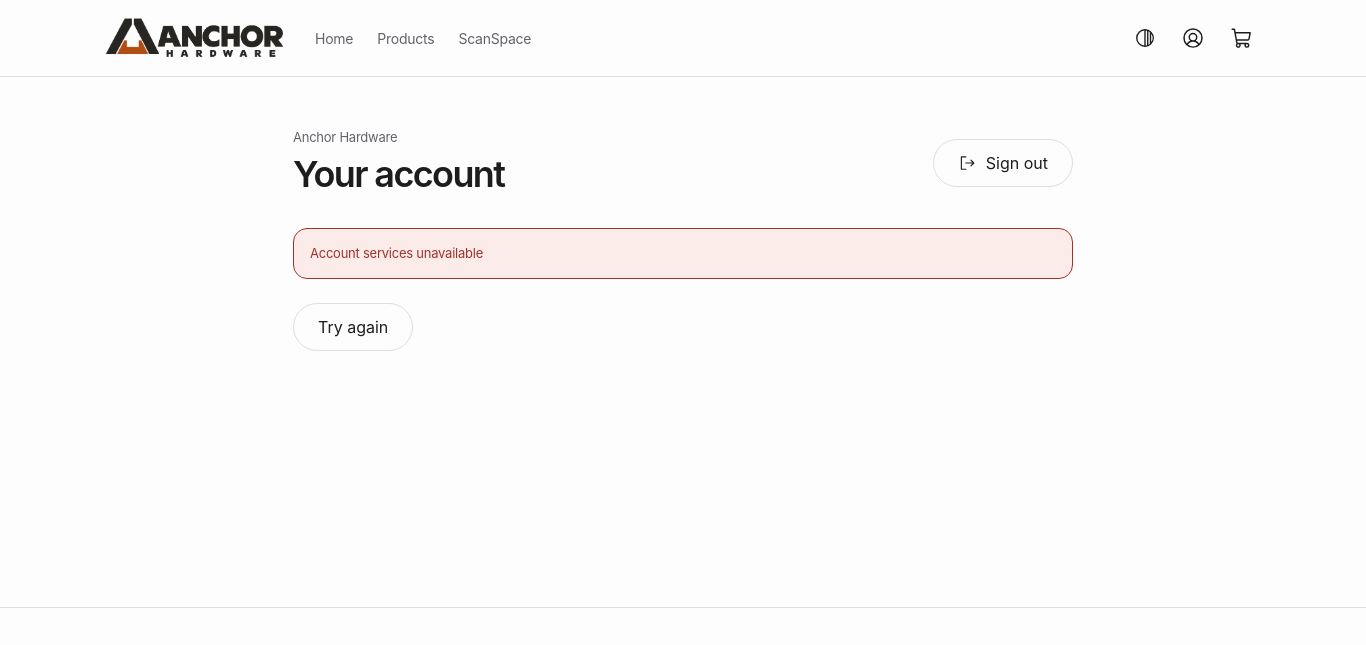
Test: a temporary profile failure preserves sign-in and can be retried
Check: the message reads "Account services unavailable", box top-left (310, 245), bottom-right (483, 261)
Click the button "Try again": point(353, 327) top-left (293, 303), bottom-right (413, 351)
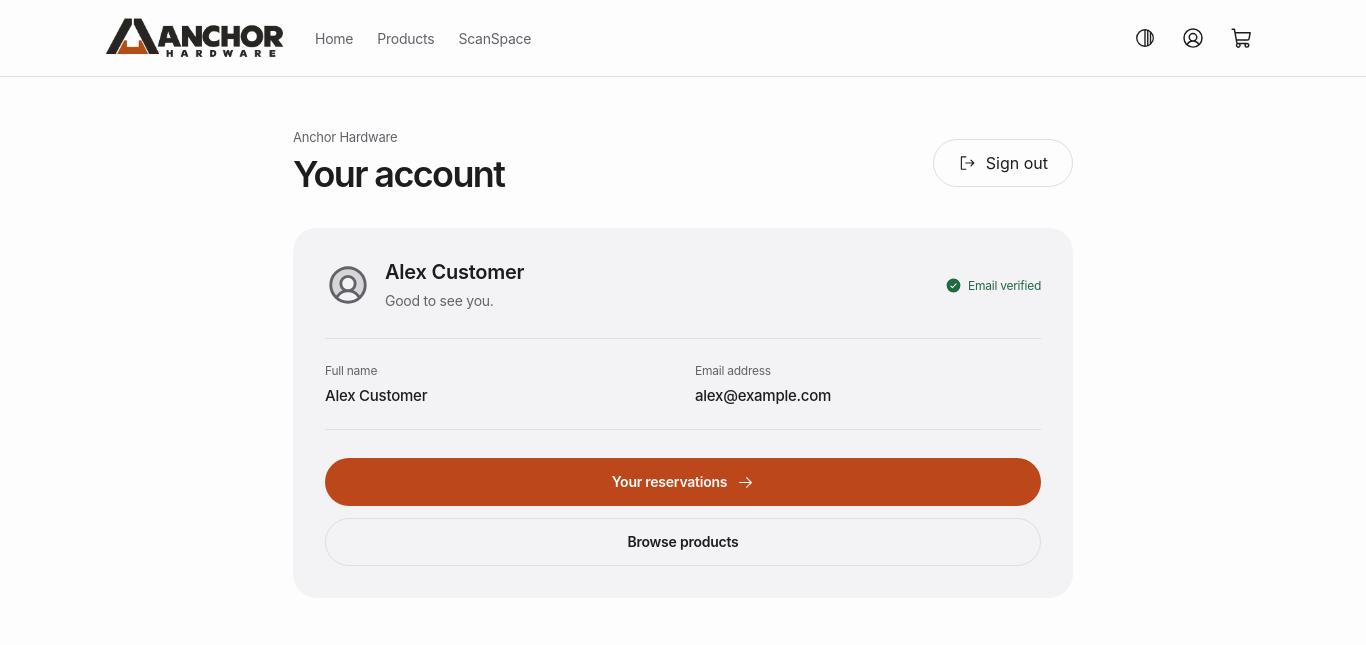
Check: the heading "Alex Customer" is shown, box top-left (385, 260), bottom-right (524, 284)
